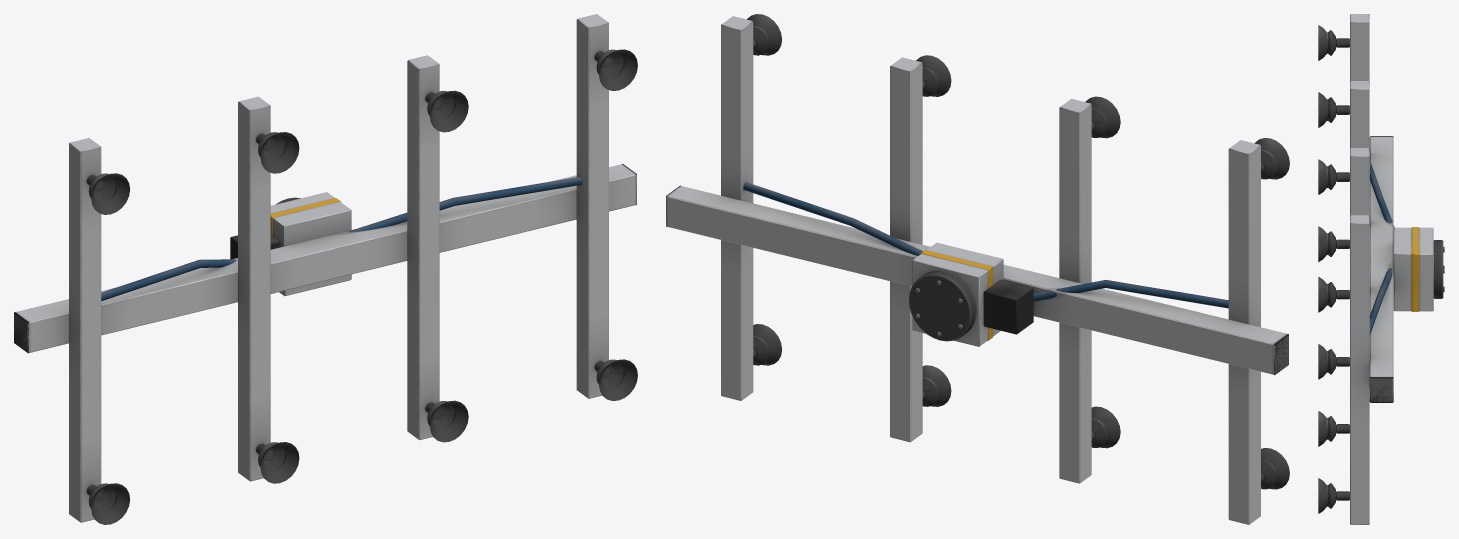
The model's file is VacuumGripper.fbx.
The picture shows the model from 3 angles, left to right: view 1: azimuth 30°, elevation 25°; view 2: azimuth 150°, elevation 25°; view 3: azimuth 270°, elevation 25°; orthographic projection. The views are drawn at different scales.
Parts seen in each view (by area): view 1: VacuumGripper_LOD0; view 2: VacuumGripper_LOD0; view 3: VacuumGripper_LOD0.
Boxes of the visible parts, x1,y1,x2,y2 form: VacuumGripper_LOD0: (14, 14, 637, 524); VacuumGripper_LOD0: (666, 14, 1289, 524); VacuumGripper_LOD0: (1318, 14, 1444, 524).
Size of what is drawn, in the model's own units: 1.44 by 0.84 by 0.319.
Materials: 1 (1 with a texture image).
